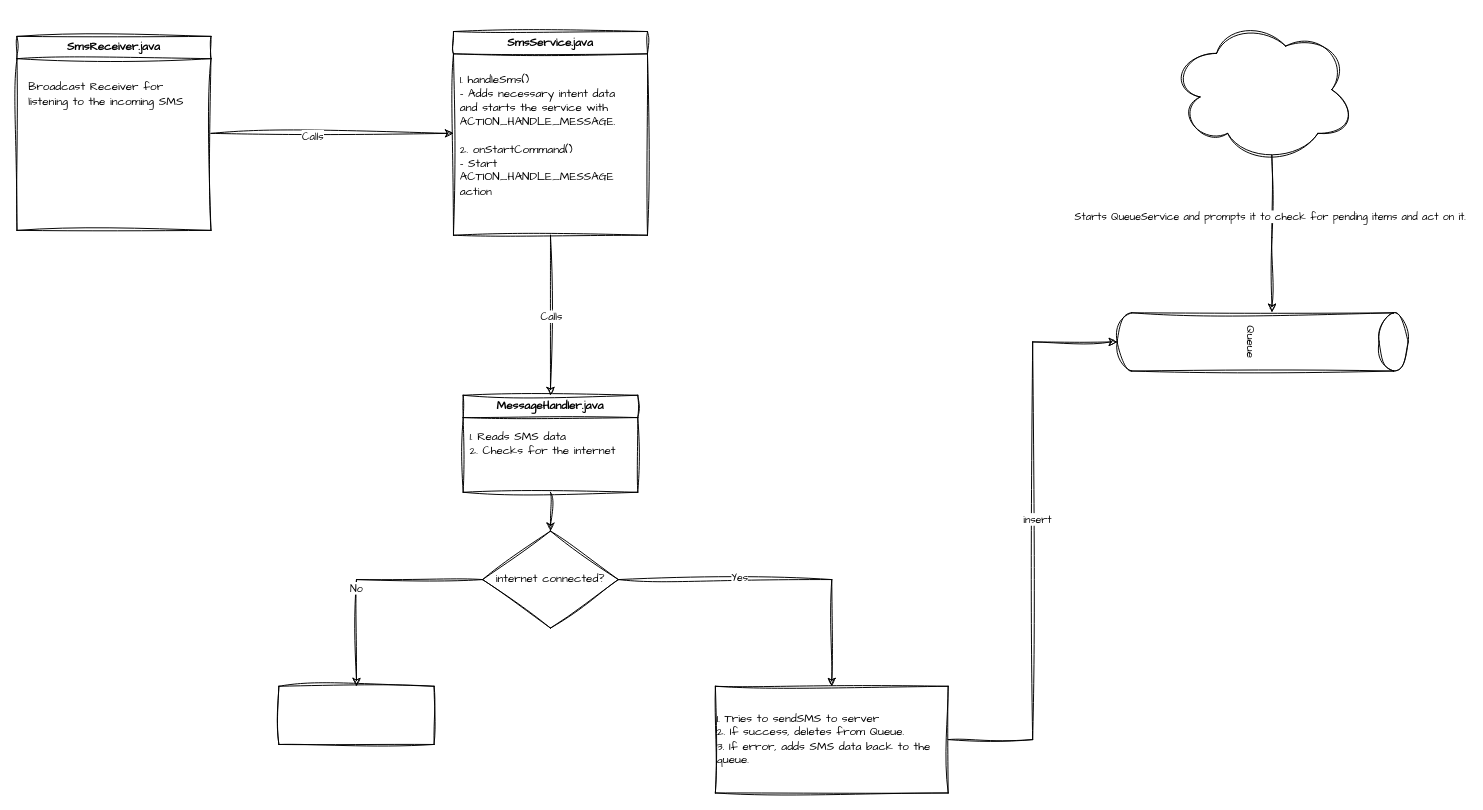
The diagram is 1483 pixels wide and 810 high, and some of its shapes have lost their labels. Here are the shapes that lost their labels. From the top down, the centre of each, then its label:
At (1262,89): "When network state changes and device is connected to the internet".
At (356,714): "1. Inserts to Queue 2. Prints error message".
